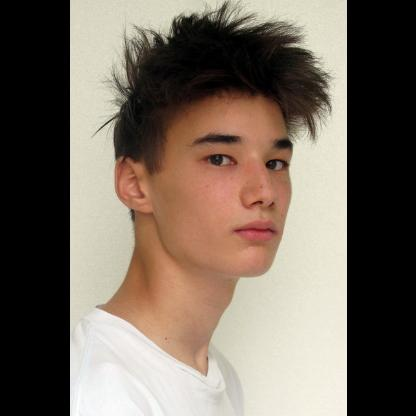Male: (112, 95, 292, 275)
